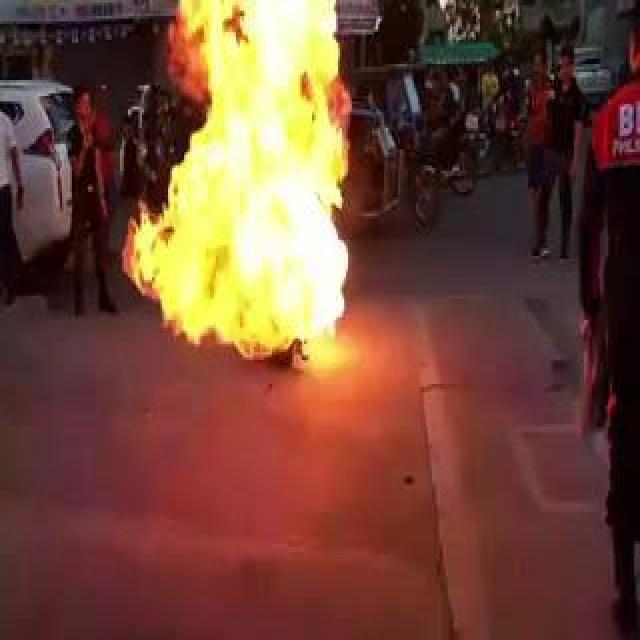Smoke: (118, 0, 350, 299)
